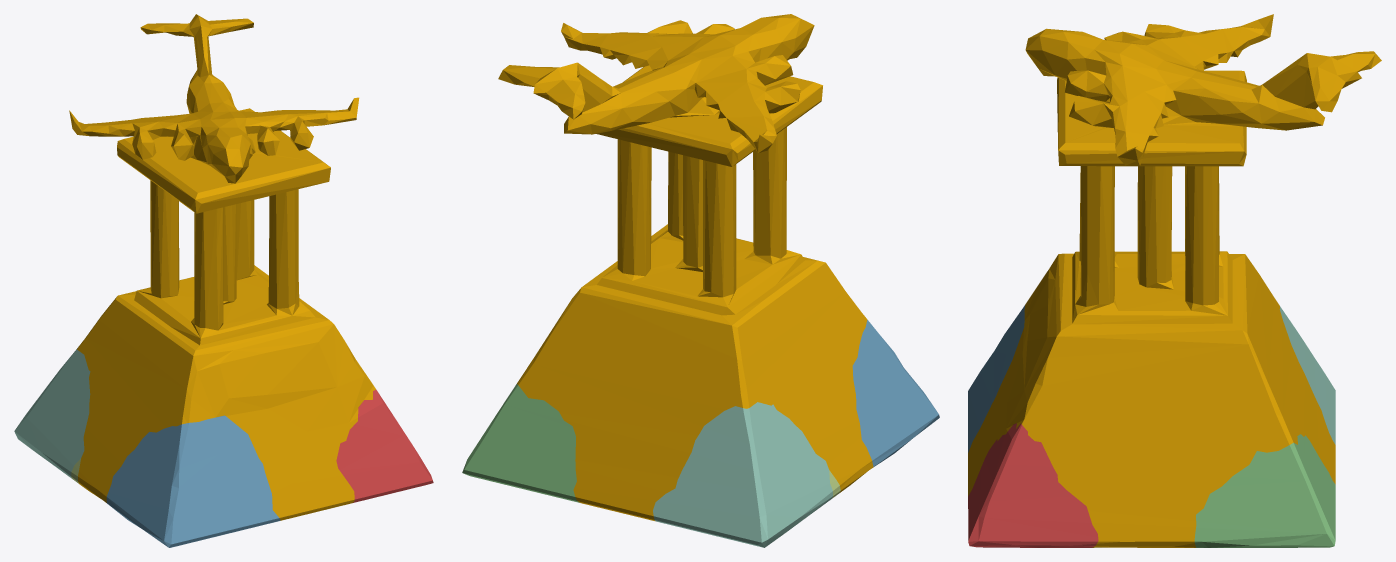
File: fractured_30_6pcs.glb
The picture shows the model from 3 angles, left to right: view 1: azimuth 30°, elevation 25°; view 2: azimuth 150°, elevation 25°; view 3: azimuth 270°, elevation 25°; orthographic projection. The views are drawn at different scales.
Visible parts, largest first — view 1: piece_0.obj, piece_2.obj, piece_1.obj, piece_4.obj; view 2: piece_0.obj, piece_4.obj, piece_3.obj, piece_2.obj; view 3: piece_0.obj, piece_3.obj, piece_1.obj, piece_2.obj, piece_4.obj.
Boxes of the visible parts, x1,y1,x2,y2 form: piece_0.obj: (69,14,375,520); piece_2.obj: (106,415,280,547); piece_1.obj: (336,389,433,503); piece_4.obj: (14,348,90,478); piece_0.obj: (498,14,873,521); piece_4.obj: (653,402,832,547); piece_3.obj: (462,384,579,502); piece_2.obj: (852,320,939,466); piece_0.obj: (968,14,1381,547); piece_3.obj: (1194,434,1335,547); piece_1.obj: (968,423,1098,547); piece_2.obj: (968,305,1024,452); piece_4.obj: (1279,306,1335,444).
Size of the model in its own units: 0.7429 by 0.9999 by 0.8403.
